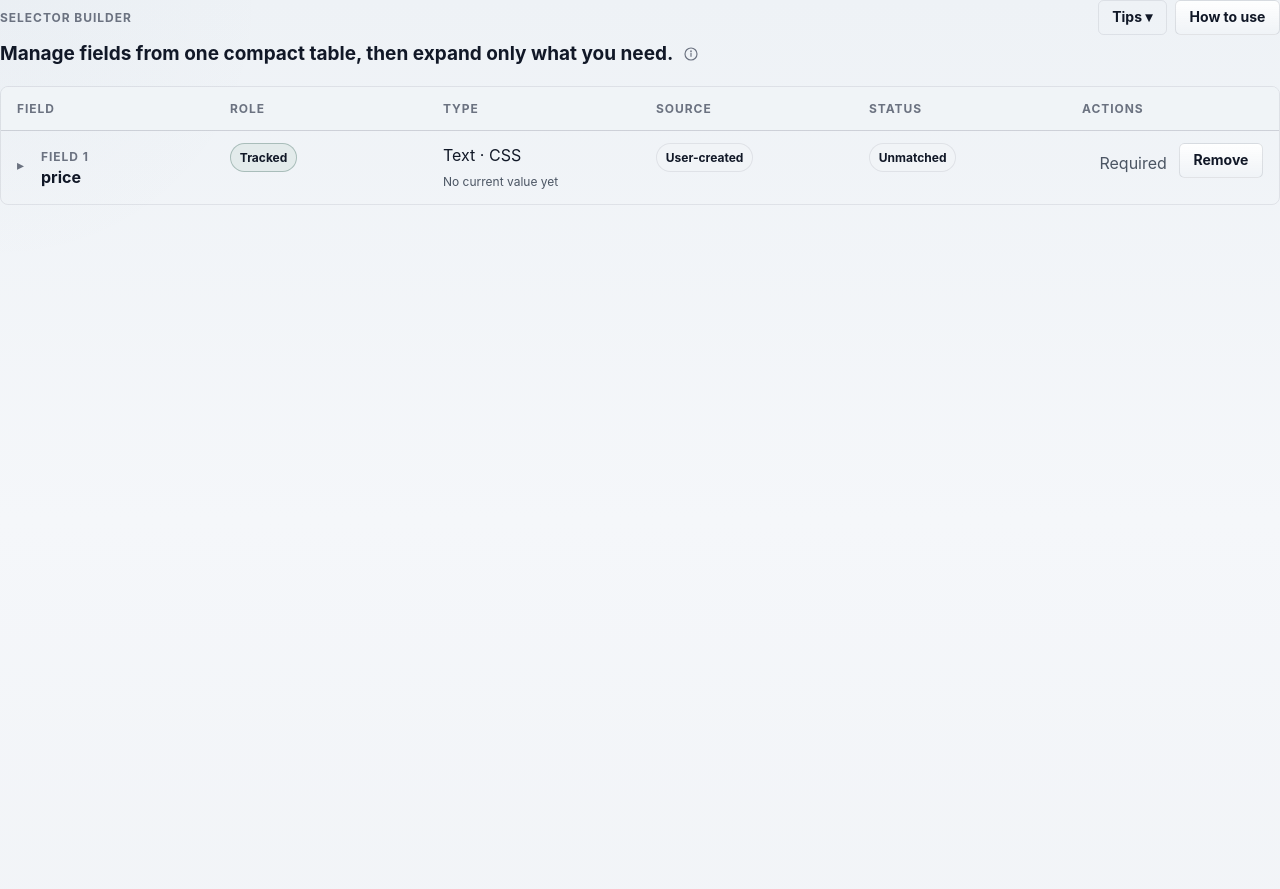
Scenario: SelectorBuilder › shows canonical field assignment options
The image size is (1280, 889).
Click the button "▸ Field 1 price": [53, 165] box x1=17 y1=143 x2=89 y2=188
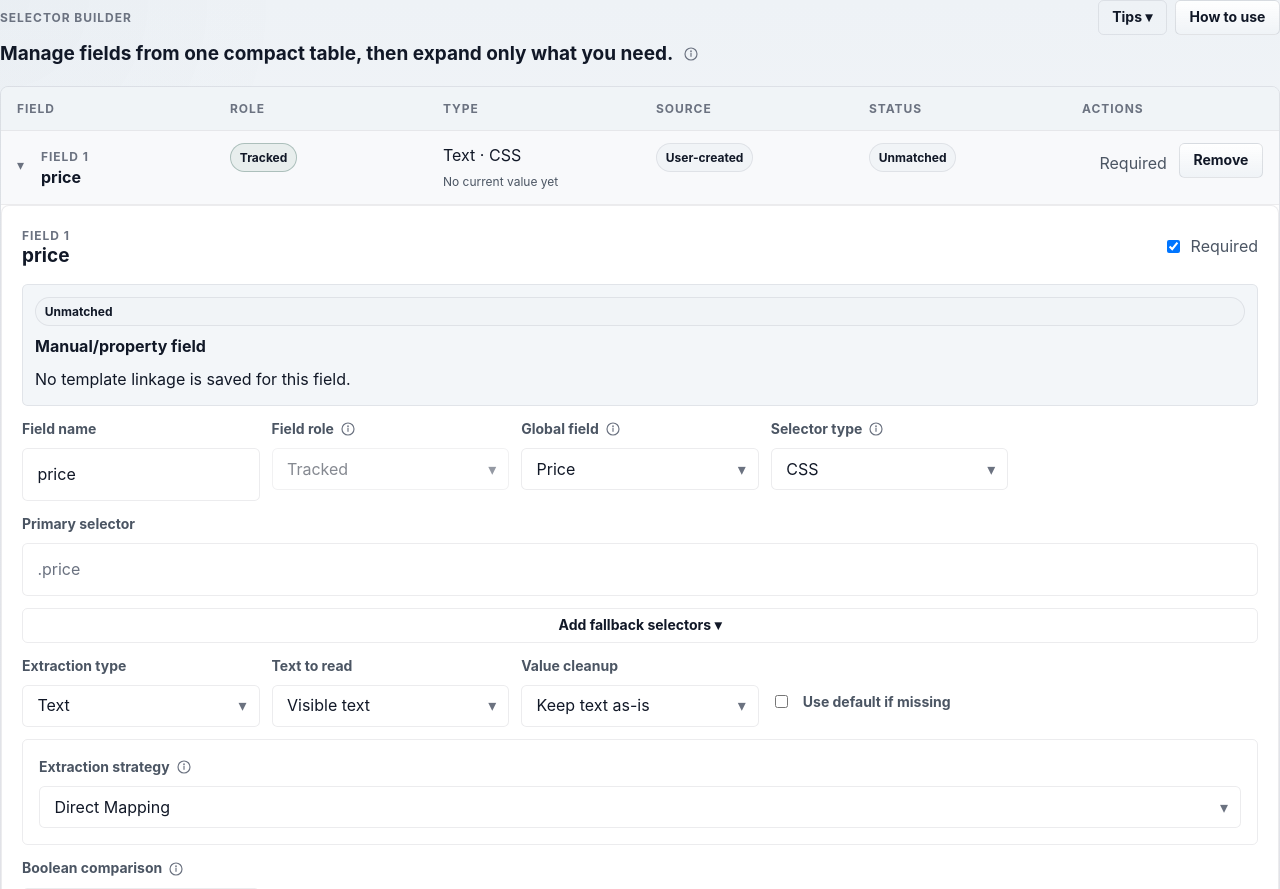
Result: the dropdown labelled "Field role" shows "Tracked" at x1=287 y1=449 x2=480 y2=489
Result: the dropdown labelled "Global field" shows "Price" at x1=537 y1=449 x2=730 y2=489
